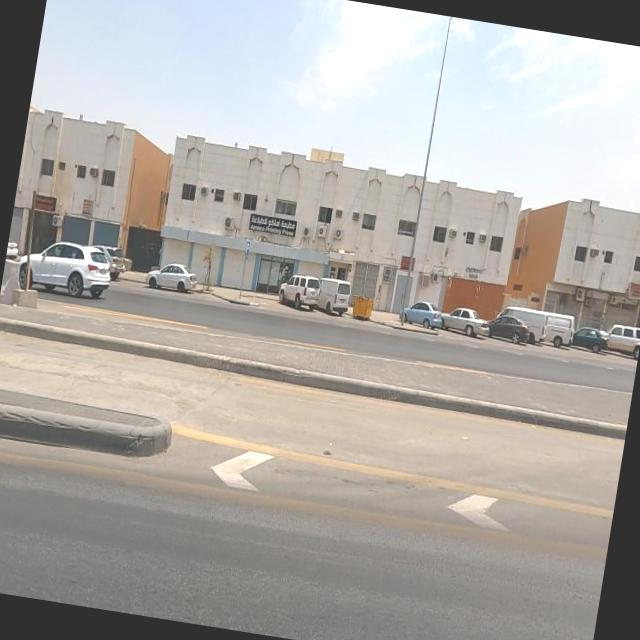debris: (595, 245, 640, 328)
